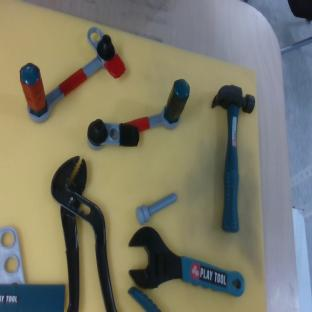non_pass: (81, 77, 202, 163)
pass: (7, 22, 129, 124)
